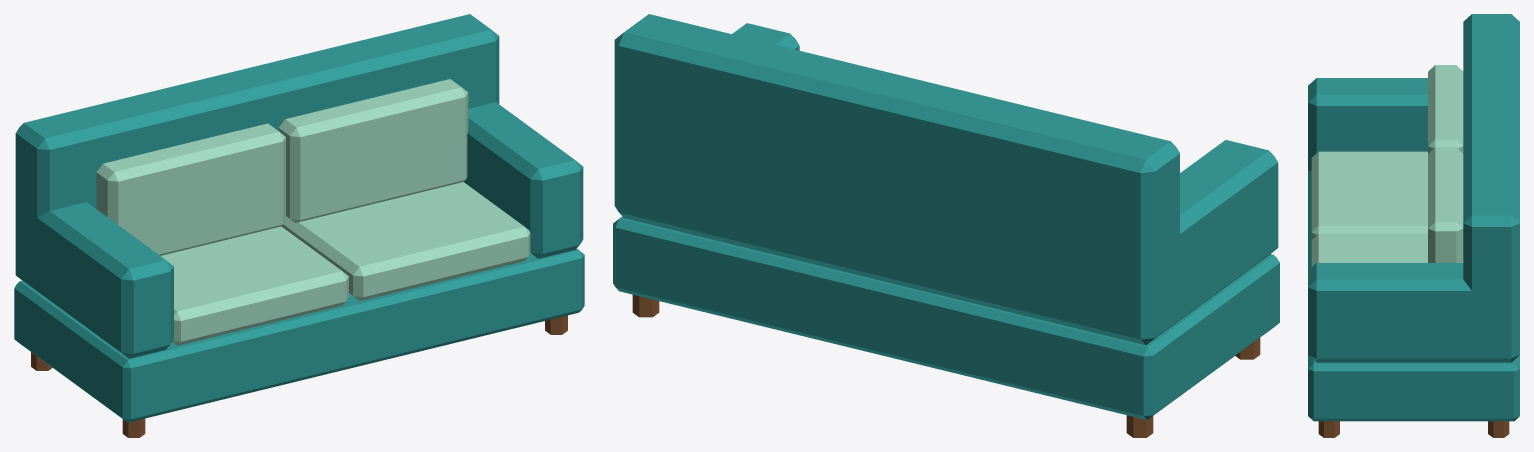
The model's file is FUR_Couch.fbx.
3 renders of one model, left to right at view 1: azimuth 30°, elevation 25°; view 2: azimuth 150°, elevation 25°; view 3: azimuth 270°, elevation 25°, orthographic. The views are drawn at different scales.
Visible parts, largest first — view 1: FUR_Couch; view 2: FUR_Couch; view 3: FUR_Couch.
Boxes of the visible parts, x1,y1,x2,y2 form: FUR_Couch: [14, 14, 584, 437]; FUR_Couch: [613, 14, 1279, 437]; FUR_Couch: [1308, 14, 1519, 437].
Size of the model in its own units: 7 by 3.5 by 3.
